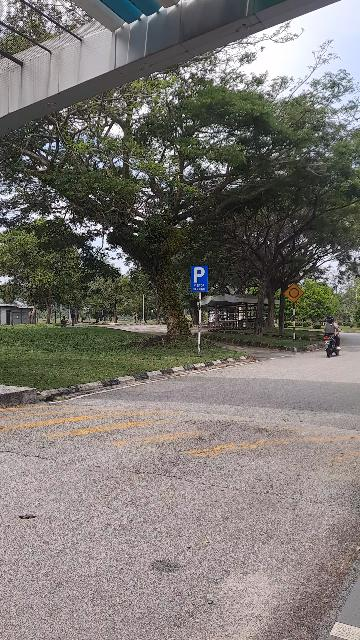motorcycle: (323, 314, 343, 359)
